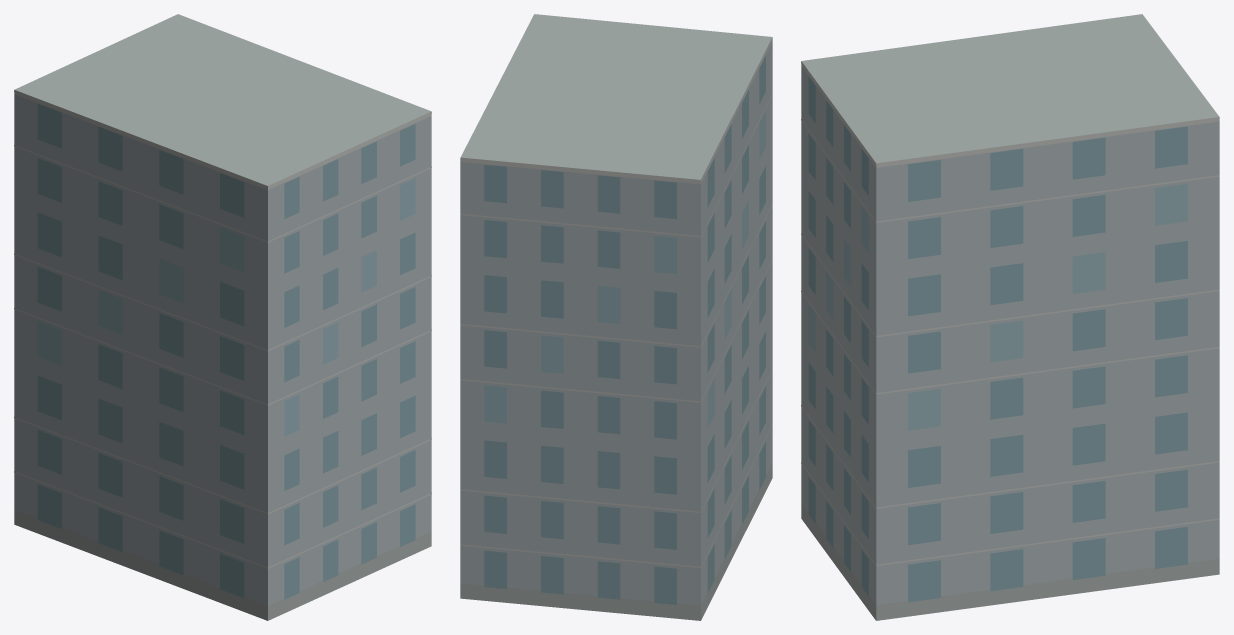
The model's file is survey-upis-32570281.glb.
3 renders of one model, left to right at view 1: azimuth 30°, elevation 25°; view 2: azimuth 150°, elevation 25°; view 3: azimuth 270°, elevation 25°, orthographic. The views are drawn at different scales.
Parts seen in each view (by area): view 1: survey-upis-32570281.tmp; view 2: survey-upis-32570281.tmp; view 3: survey-upis-32570281.tmp.
Part boxes in pixels (x1=…): survey-upis-32570281.tmp: x1=14, y1=14, x2=431, y2=620; survey-upis-32570281.tmp: x1=460, y1=14, x2=772, y2=620; survey-upis-32570281.tmp: x1=801, y1=14, x2=1219, y2=620.
Bounding box in the file's own units: 17.1 × 24.4 × 20.24.
